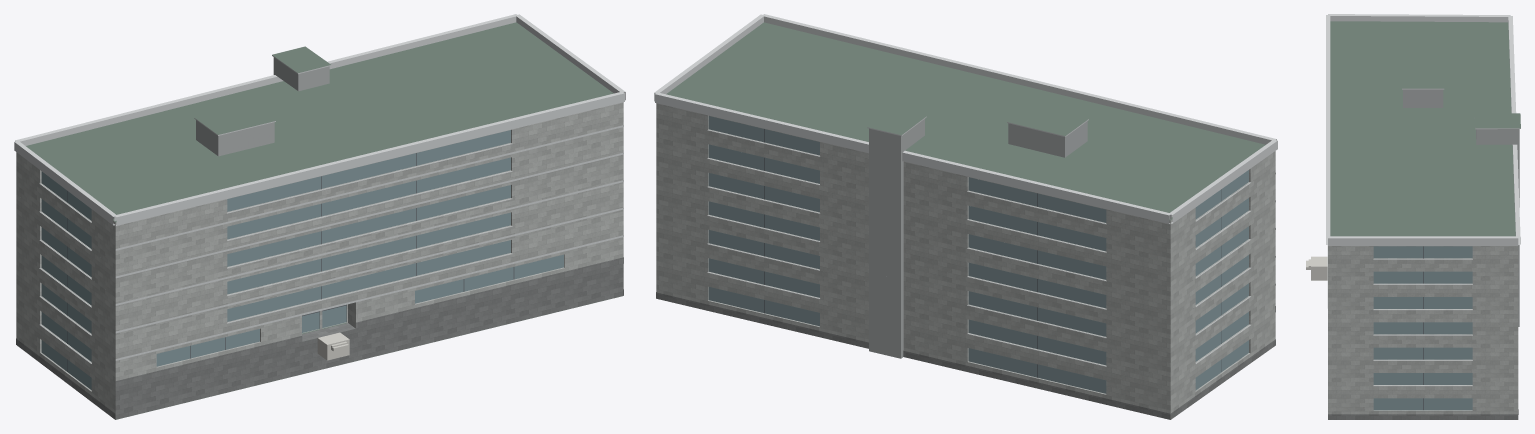
3 views of the same model, side by side, from view 1: azimuth 30°, elevation 25°; view 2: azimuth 150°, elevation 25°; view 3: azimuth 270°, elevation 25° (orthographic). The views are drawn at different scales.
Parts seen in each view (by area): view 1: b30__wall, b30__roof, b30__glass, b30__trim, b30__base, b30__wall2, b30__entranceStair; view 2: b30__wall, b30__roof, b30__glass, b30__trim, b30__wall2, b30__base; view 3: b30__roof, b30__wall, b30__glass, b30__trim, b30__wall2, b30__base, b30__entranceStair.
Part boxes in pixels (x1,y1,x2,y2): b30__wall: [16, 102, 623, 419]; b30__roof: [26, 22, 622, 419]; b30__glass: [41, 130, 563, 389]; b30__trim: [14, 14, 625, 363]; b30__base: [16, 257, 623, 419]; b30__wall2: [196, 57, 329, 156]; b30__entranceStair: [317, 332, 349, 360]; b30__wall: [656, 103, 1275, 419]; b30__roof: [666, 22, 1265, 220]; b30__glass: [708, 116, 1248, 393]; b30__trim: [654, 14, 1277, 366]; b30__wall2: [869, 119, 1087, 358]; b30__base: [656, 292, 1275, 419]; b30__roof: [1330, 21, 1520, 236]; b30__wall: [1328, 246, 1518, 414]; b30__glass: [1373, 246, 1472, 410]; b30__trim: [1326, 14, 1520, 386]; b30__wall2: [1403, 89, 1519, 326]; b30__base: [1328, 409, 1518, 419]; b30__entranceStair: [1306, 256, 1327, 280].
Bounding box in the file's own units: 68.41 × 28.37 × 27.7.
9 materials, 2 textured.
